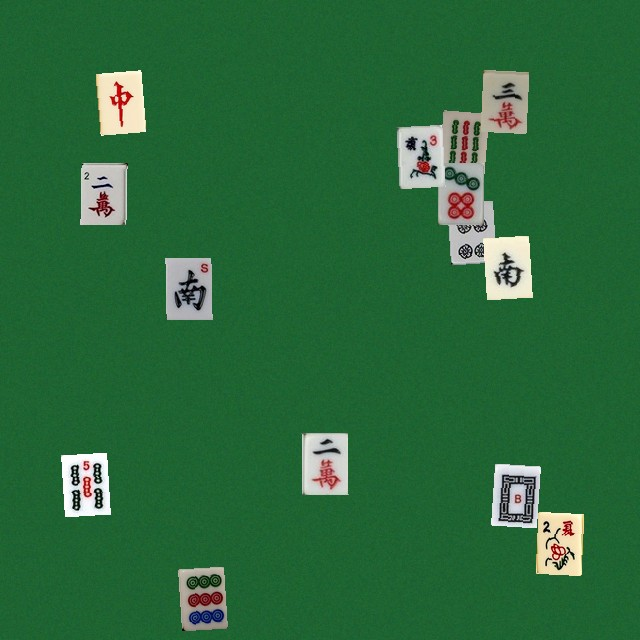tile: (95, 70, 141, 132), (165, 257, 211, 319), (446, 200, 492, 262), (438, 110, 484, 172), (483, 235, 529, 297), (178, 566, 224, 628), (437, 162, 483, 224), (396, 124, 442, 186), (61, 452, 107, 514), (480, 69, 526, 131), (490, 463, 536, 525), (301, 432, 347, 494), (80, 162, 126, 224), (535, 511, 581, 573)
